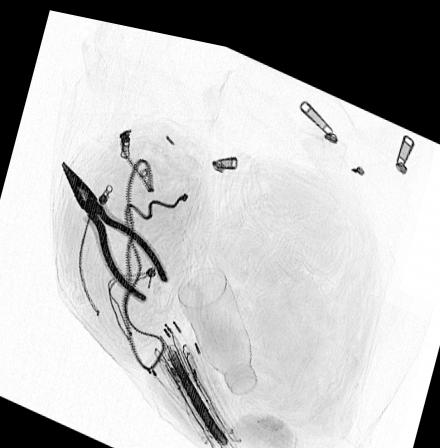Pliers: (60, 157, 170, 297)
